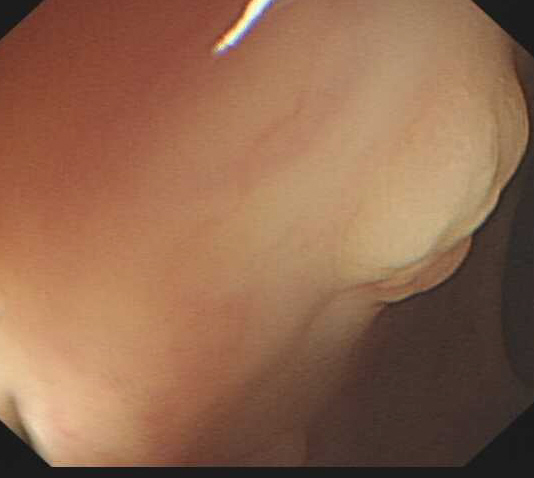adenoma: (336, 32, 530, 304)
